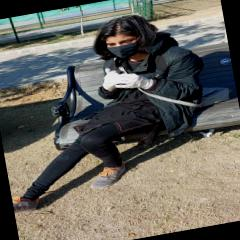gloved: (115, 69, 154, 92), (100, 68, 121, 92)
